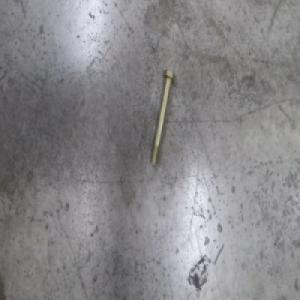Bolt: (148, 66, 175, 168)
